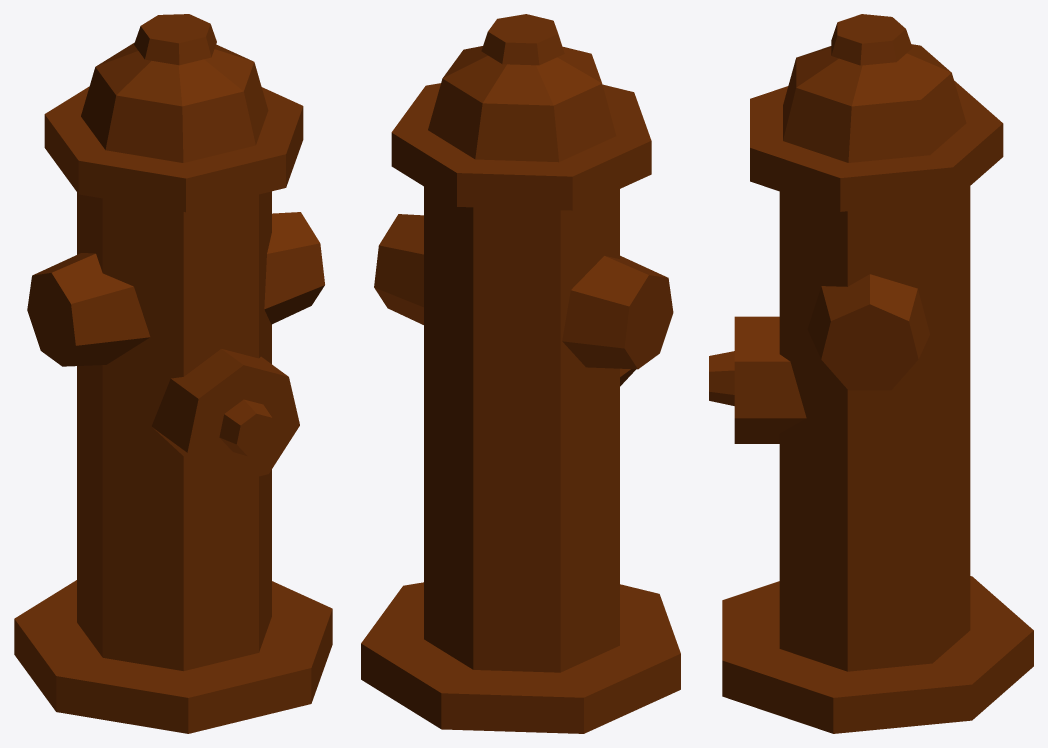
Rendered from LP_PostApoc_FireHydrant.fbx.
3 views of the same model, side by side, from view 1: azimuth 30°, elevation 25°; view 2: azimuth 150°, elevation 25°; view 3: azimuth 270°, elevation 25° (orthographic).
Visible parts, largest first — view 1: FireHydrant; view 2: FireHydrant; view 3: FireHydrant.
Part boxes in pixels (box(x1,y1,x2,y2)): FireHydrant: box(14, 14, 332, 733); FireHydrant: box(361, 14, 680, 733); FireHydrant: box(709, 14, 1033, 733).
Bounding box in the file's own units: 31.95 × 70.34 × 32.47.
